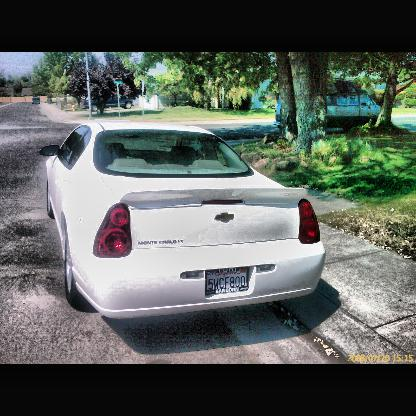Chevrolet Monte Carlo Coupe 2007: (40, 117, 329, 326)
